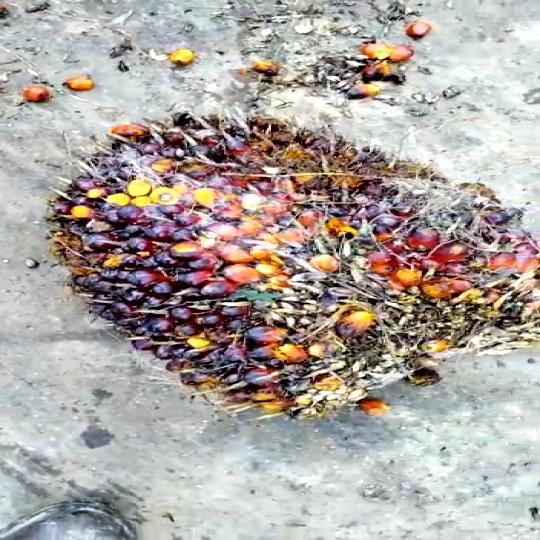masak: (22, 107, 540, 430)
